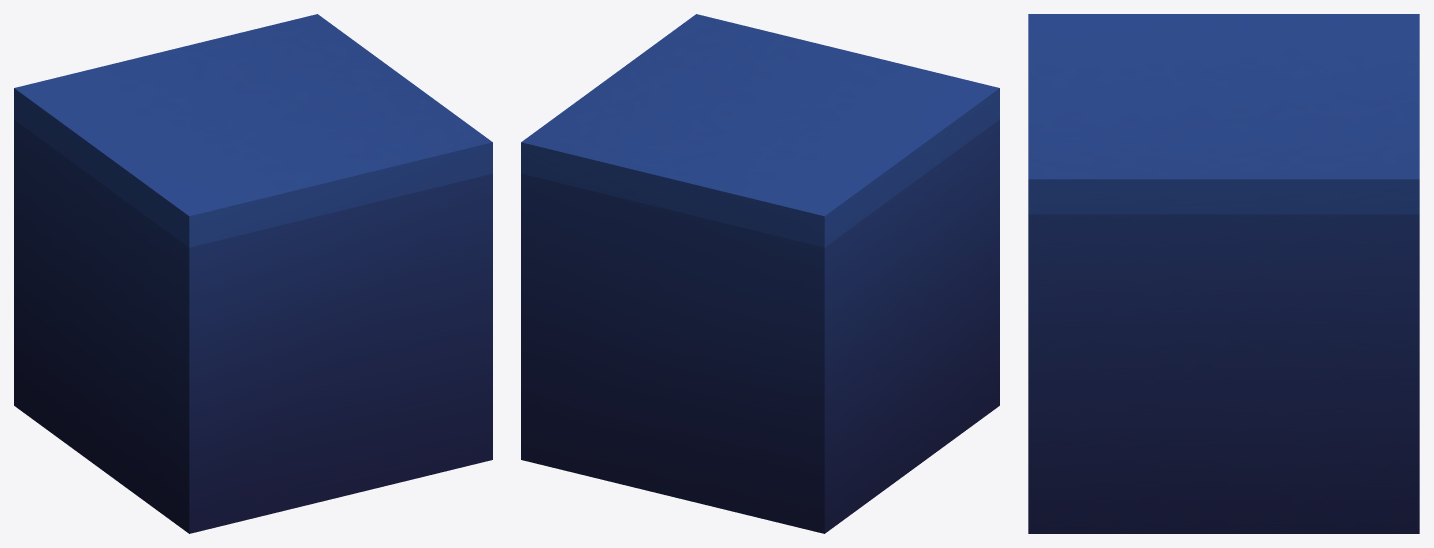
File: floorBox 1.fbx
The picture shows the model from 3 angles, left to right: view 1: azimuth 30°, elevation 25°; view 2: azimuth 150°, elevation 25°; view 3: azimuth 270°, elevation 25°; orthographic projection. The views are drawn at different scales.
Parts seen in each view (by area): view 1: pCube200; view 2: pCube200; view 3: pCube200.
Boxes of the visible parts, x1,y1,x2,y2 form: pCube200: (14,14,492,533); pCube200: (521,14,999,533); pCube200: (1028,14,1419,533).
Bounding box in the file's own units: 100 × 100 × 100.
